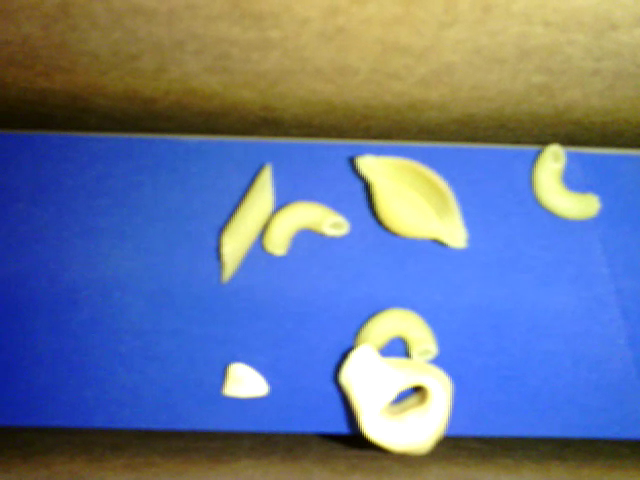elbow: (531, 141, 602, 220), (260, 199, 351, 255), (358, 306, 438, 361)
penne: (217, 162, 274, 283)
shell: (354, 153, 469, 249)
tortellini: (337, 342, 454, 456)
